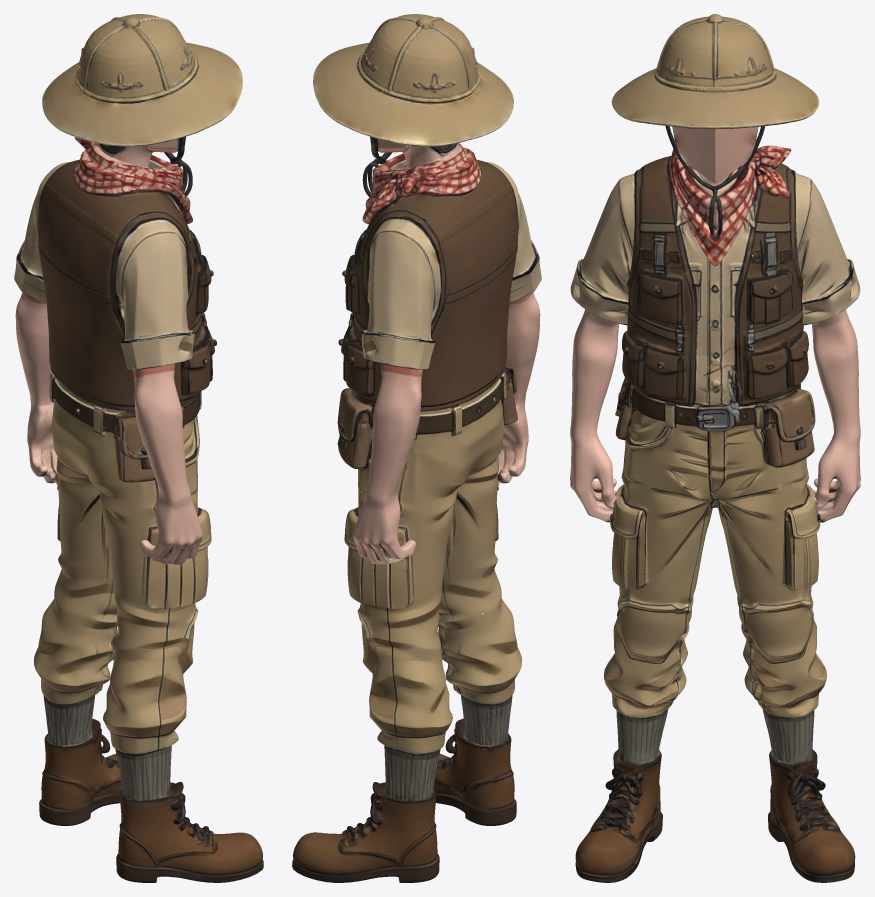
File: adventure+explorer+3d+model.glb
3 views of the same model, side by side, from view 1: azimuth 30°, elevation 25°; view 2: azimuth 150°, elevation 25°; view 3: azimuth 270°, elevation 25° (orthographic).
Visible parts, largest first — view 1: tripo_node_7c4d3e19-e36a-4431-9c00-99bb3a519600; view 2: tripo_node_7c4d3e19-e36a-4431-9c00-99bb3a519600; view 3: tripo_node_7c4d3e19-e36a-4431-9c00-99bb3a519600.
Part boxes in pixels (x1,y1,x2,y2): tripo_node_7c4d3e19-e36a-4431-9c00-99bb3a519600: (14,14,263,882); tripo_node_7c4d3e19-e36a-4431-9c00-99bb3a519600: (292,14,541,882); tripo_node_7c4d3e19-e36a-4431-9c00-99bb3a519600: (570,14,860,882).
Size of the model in its own units: 0.2218 by 1 by 0.3156.
Materials: 1 (1 with a texture image).
